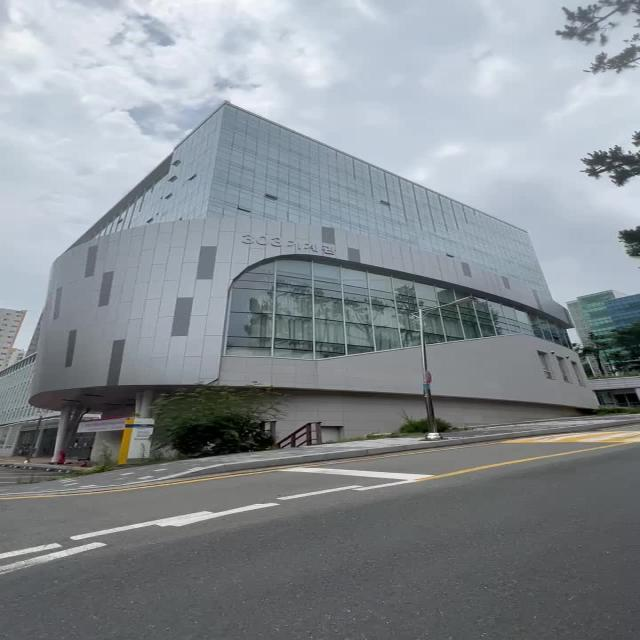building: (70, 124, 556, 396)
